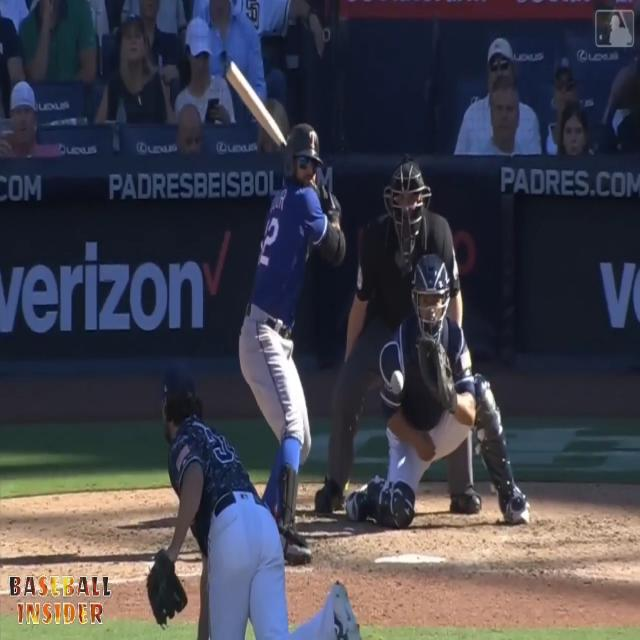baseball: (390, 368, 404, 396)
